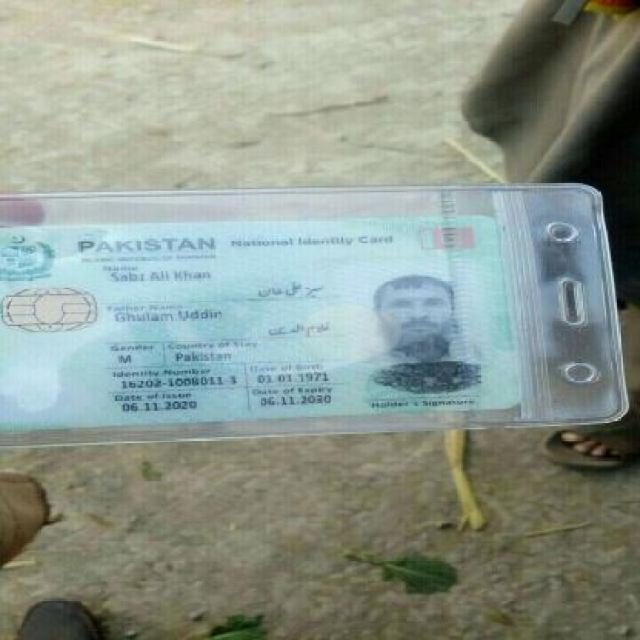Front: (6, 208, 540, 414)
